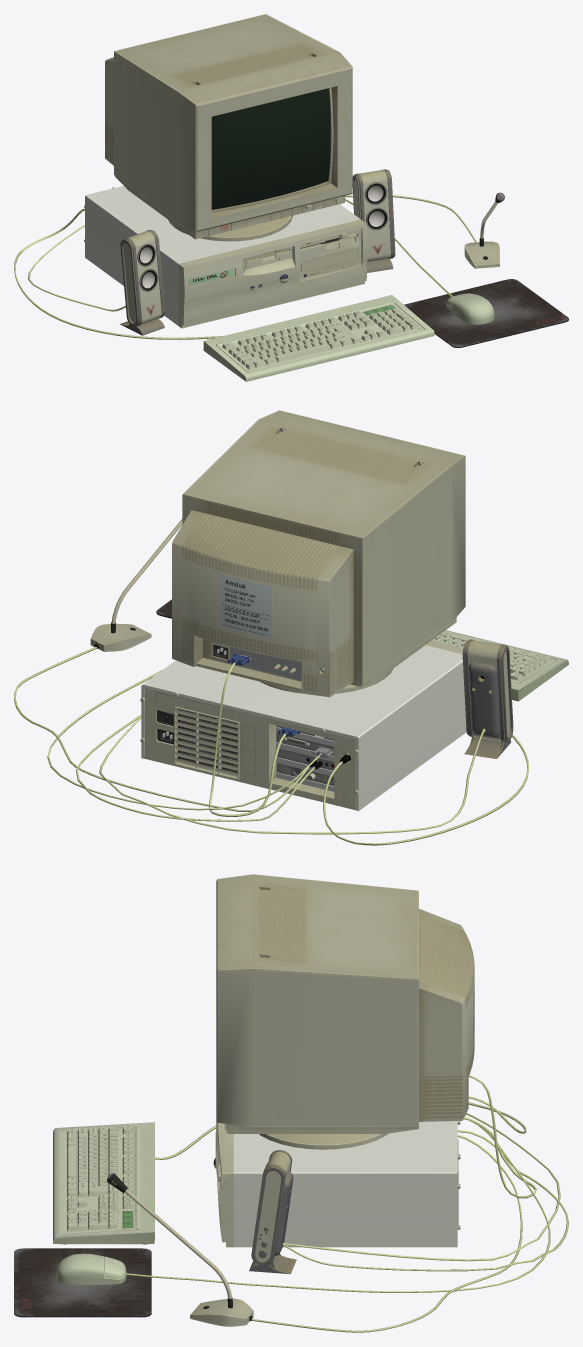
The model's file is ST_Old_PC_03_all.FBX.
3 renders of one model, top to bottom at view 1: azimuth 30°, elevation 25°; view 2: azimuth 150°, elevation 25°; view 3: azimuth 270°, elevation 25°, orthographic. The views are drawn at different scales.
Parts seen in each view (by area): view 1: Old_PC_03; view 2: Old_PC_03; view 3: Old_PC_03.
Boxes of the visible parts, <box> form: Old_PC_03: <box>14,14,568,381</box>; Old_PC_03: <box>14,410,568,845</box>; Old_PC_03: <box>14,874,568,1332</box>.
Bounding box in the file's own units: 93.3 × 49.61 × 91.11.
